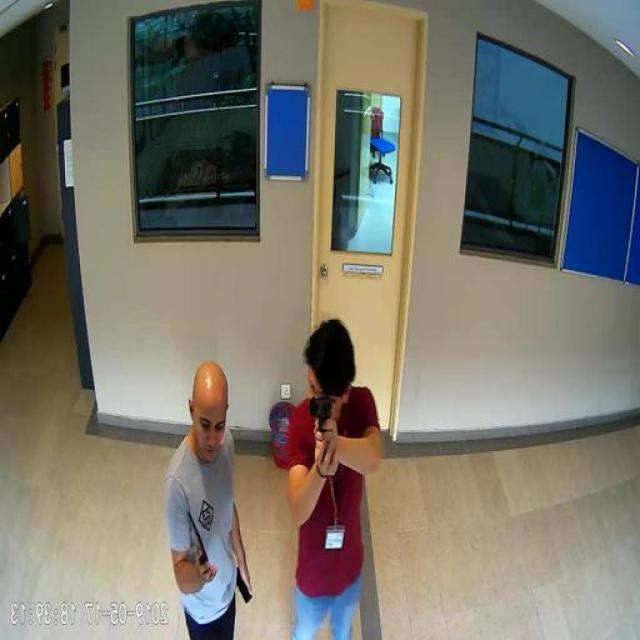weapon: (308, 398, 337, 445)
